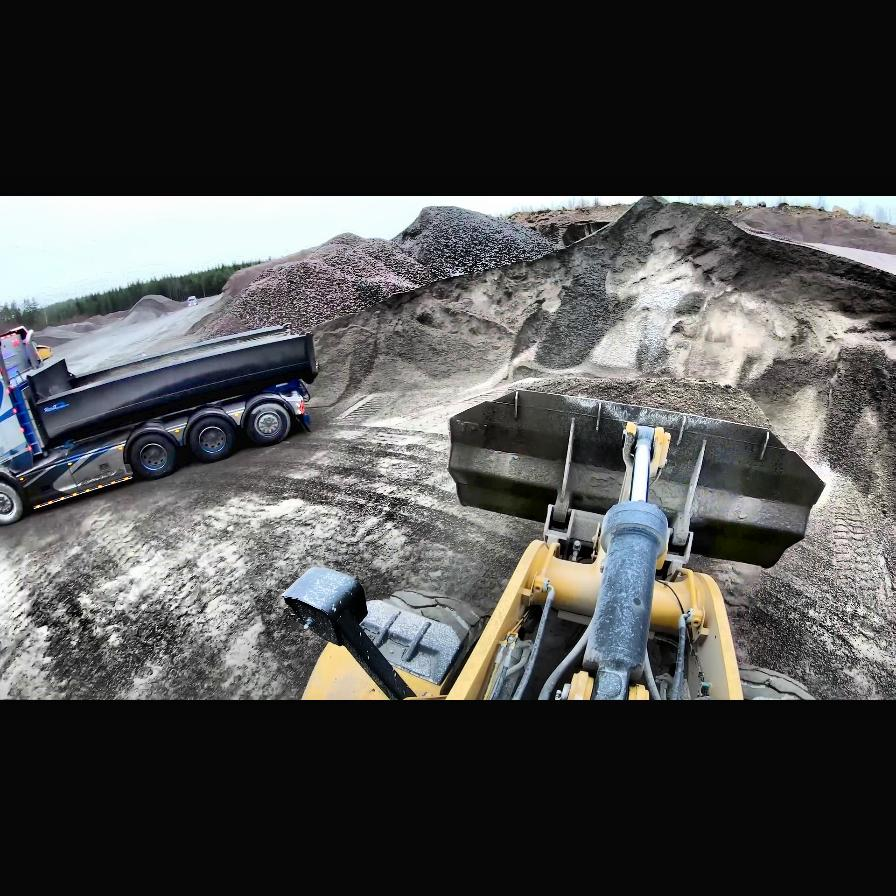anchor: (620, 422, 670, 484)
pile of gravel: (304, 196, 894, 438), (188, 207, 568, 343), (19, 322, 103, 346), (125, 294, 187, 320)
